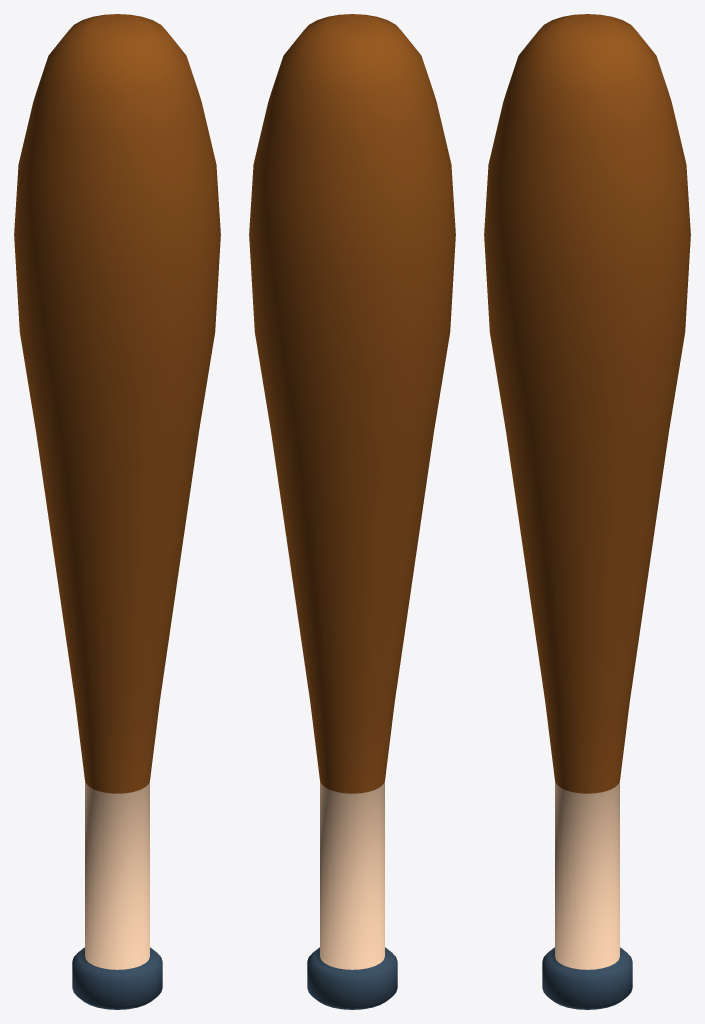
The model's file is Weapon_002.fbx.
3 renders of one model, left to right at view 1: azimuth 30°, elevation 25°; view 2: azimuth 150°, elevation 25°; view 3: azimuth 270°, elevation 25°, orthographic.
Parts seen in each view (by area): view 1: Weapon_002; view 2: Weapon_002; view 3: Weapon_002.
Part boxes in pixels (x1,y1,x2,y2): Weapon_002: (14, 14, 220, 1009); Weapon_002: (249, 14, 455, 1009); Weapon_002: (484, 14, 690, 1009).
Bounding box in the file's own units: 0.3932 × 2.03 × 0.3932.
